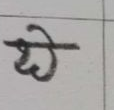e_matra: (28, 25, 58, 42)
